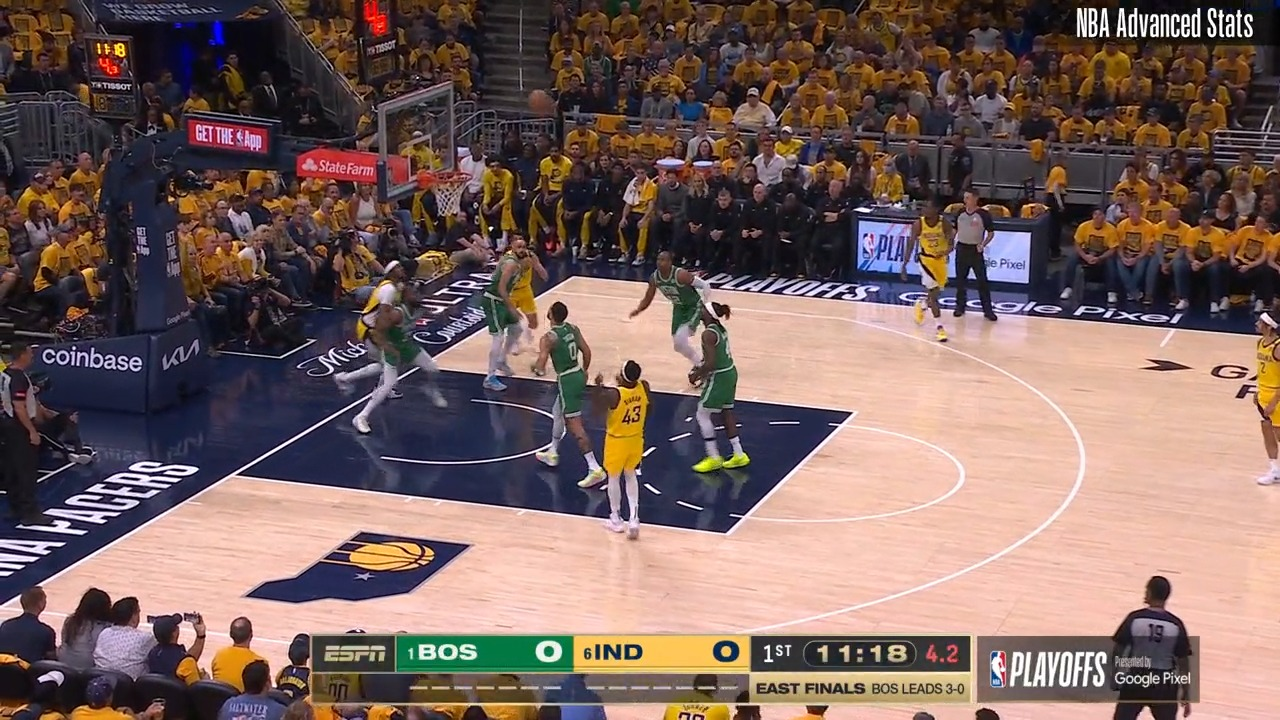basketball: (527, 87, 550, 111)
